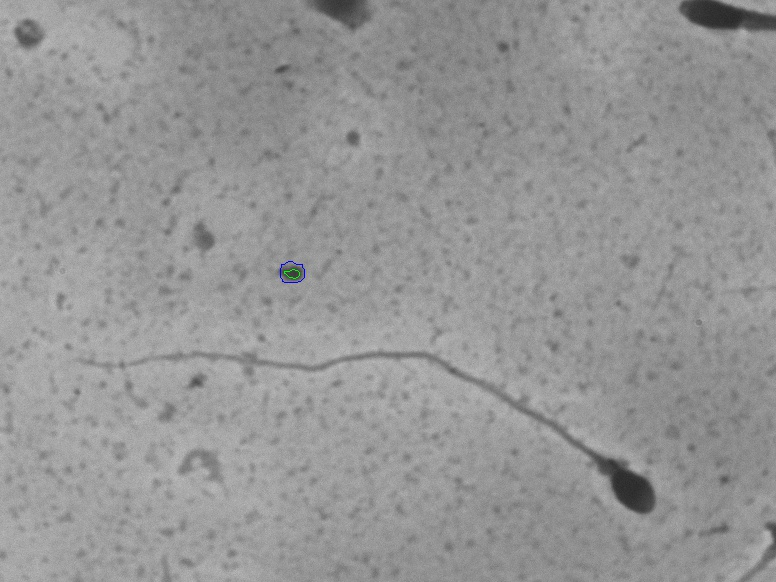Normal: (63, 333, 671, 533)
